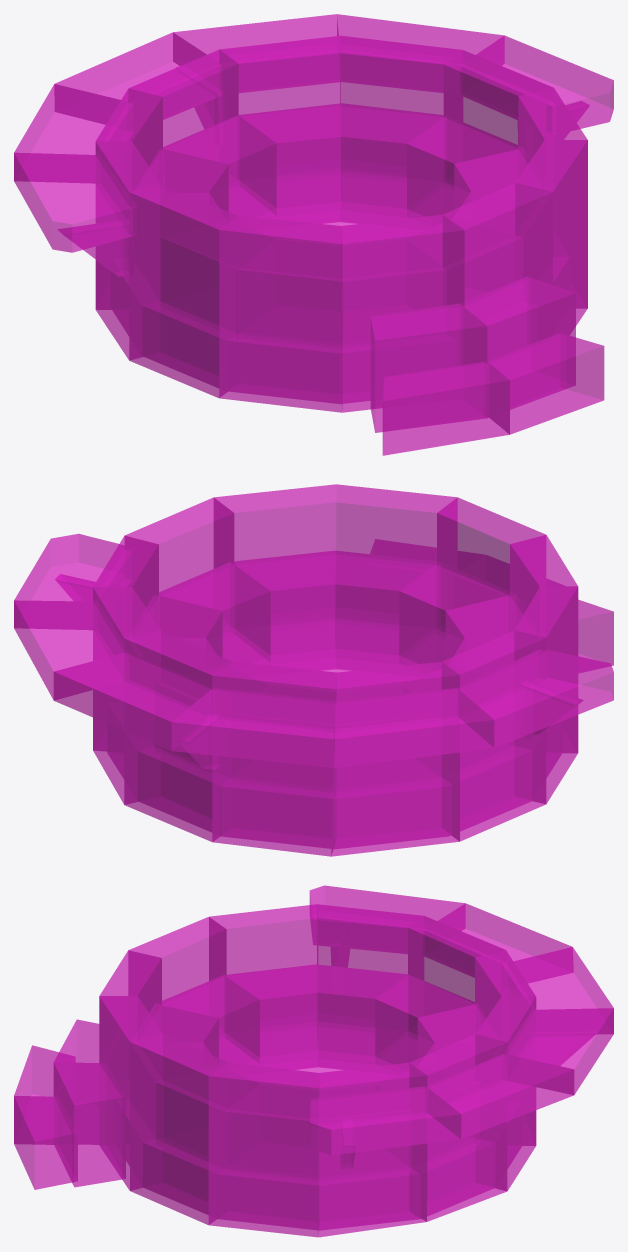
The model's file is SM_Prop_Spa_02_Collision.fbx.
The picture shows the model from 3 angles, top to bottom: view 1: azimuth 30°, elevation 25°; view 2: azimuth 150°, elevation 25°; view 3: azimuth 270°, elevation 25°; orthographic projection. The views are drawn at different scales.
Visible parts, largest first — view 1: SM_Prop_Spa_02_Collision; view 2: SM_Prop_Spa_02_Collision; view 3: SM_Prop_Spa_02_Collision.
Boxes of the visible parts, box(x1,y1,x2,y2) form: SM_Prop_Spa_02_Collision: box(14, 14, 613, 455); SM_Prop_Spa_02_Collision: box(14, 484, 613, 856); SM_Prop_Spa_02_Collision: box(14, 885, 613, 1237).
Bounding box in the file's own units: 458 × 131 × 475.
